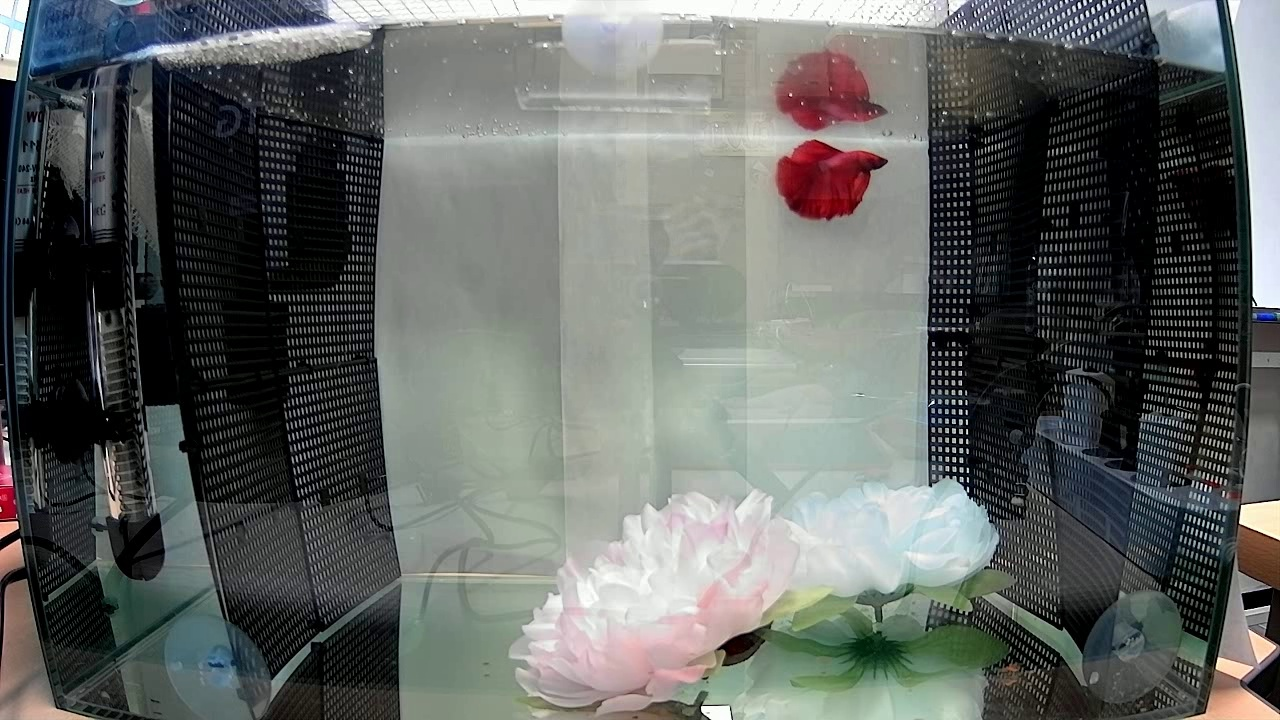fish: (776, 135, 889, 223)
